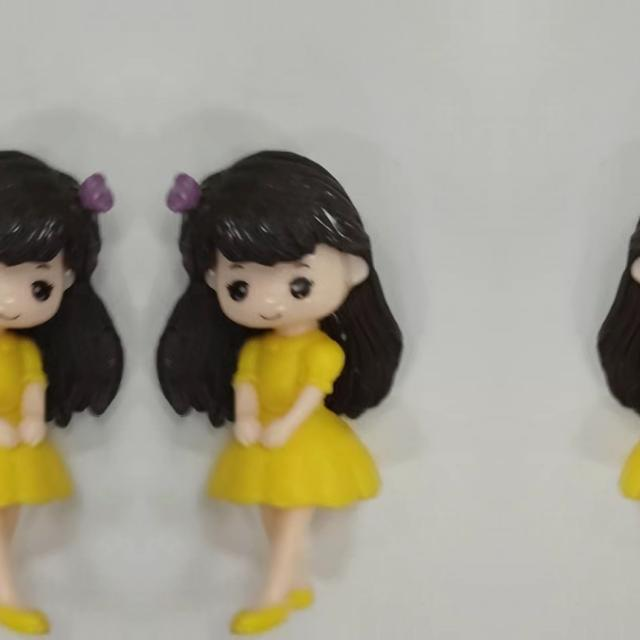woman dress: (217, 320, 395, 632), (0, 320, 63, 632), (605, 320, 640, 632)
woman head: (162, 146, 368, 340), (0, 146, 118, 340), (632, 146, 640, 340)
